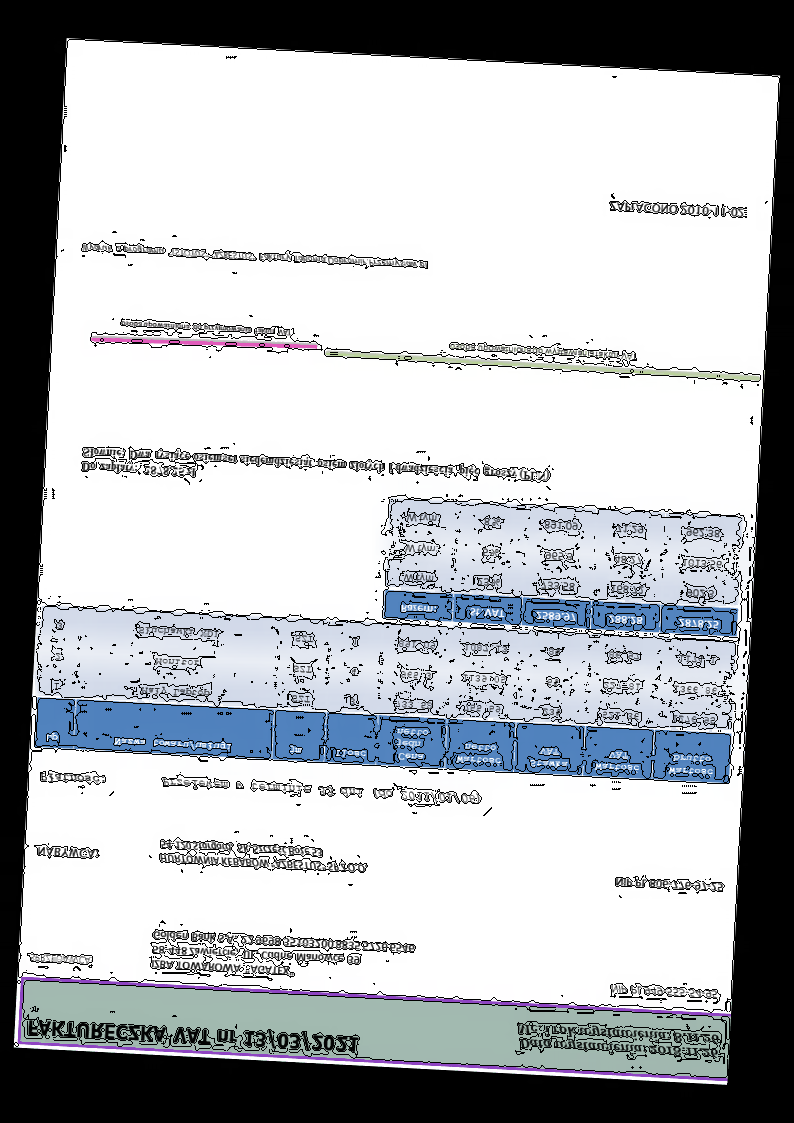Table: (33, 603, 738, 786), (382, 497, 744, 637)
TextBox: (79, 443, 552, 499), (148, 928, 417, 985), (24, 1015, 361, 1056), (80, 240, 430, 273), (161, 774, 483, 806), (512, 1020, 720, 1062), (158, 838, 370, 875), (447, 340, 638, 363), (118, 318, 292, 339), (606, 199, 745, 221), (612, 875, 724, 894), (609, 982, 719, 1001), (37, 769, 107, 788), (28, 950, 94, 969), (34, 844, 99, 862)
